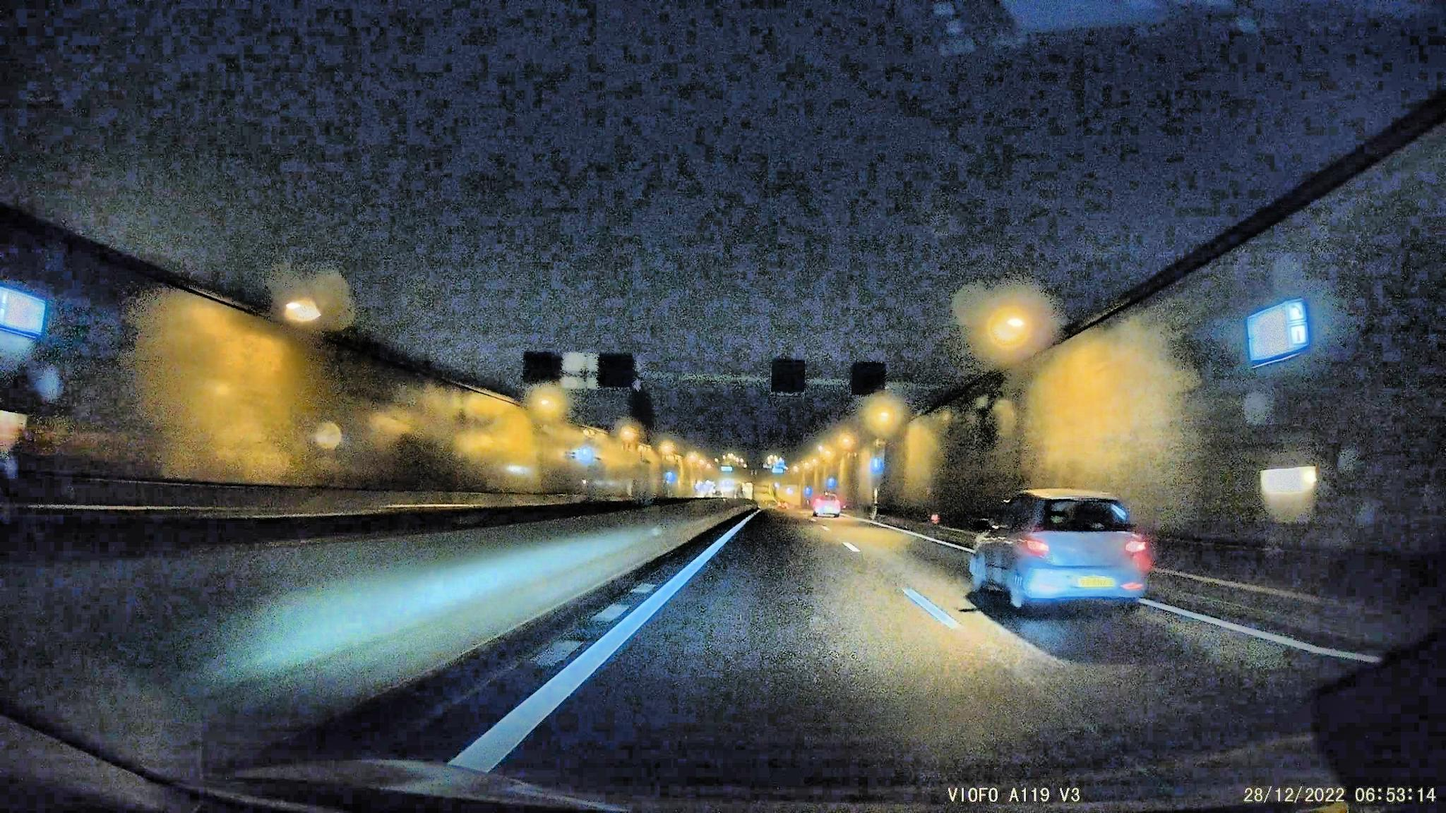Roads: (239, 515, 1446, 813)
